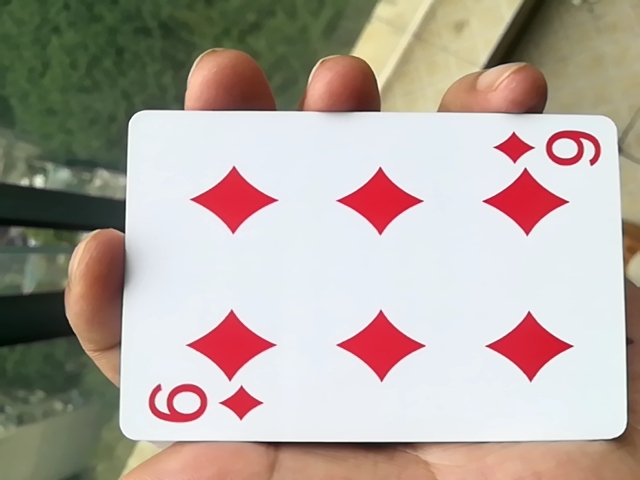fk 6: (105, 120, 622, 461)
